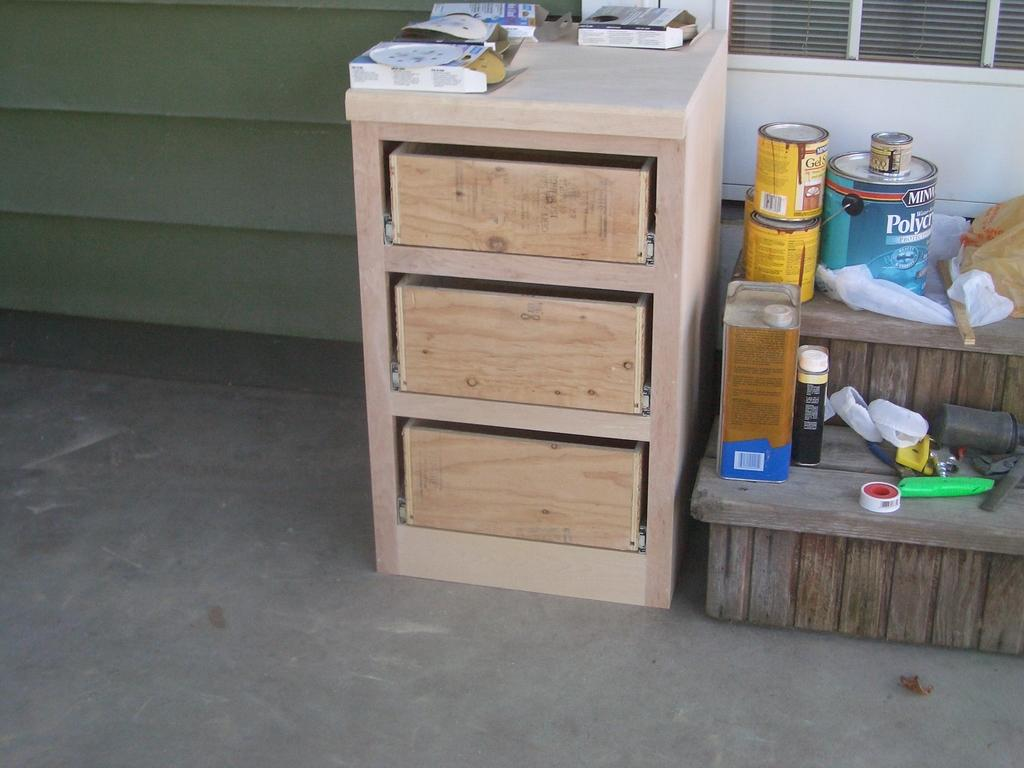cabinet_door: (390, 424, 656, 550), (390, 282, 652, 404), (386, 154, 662, 258)
